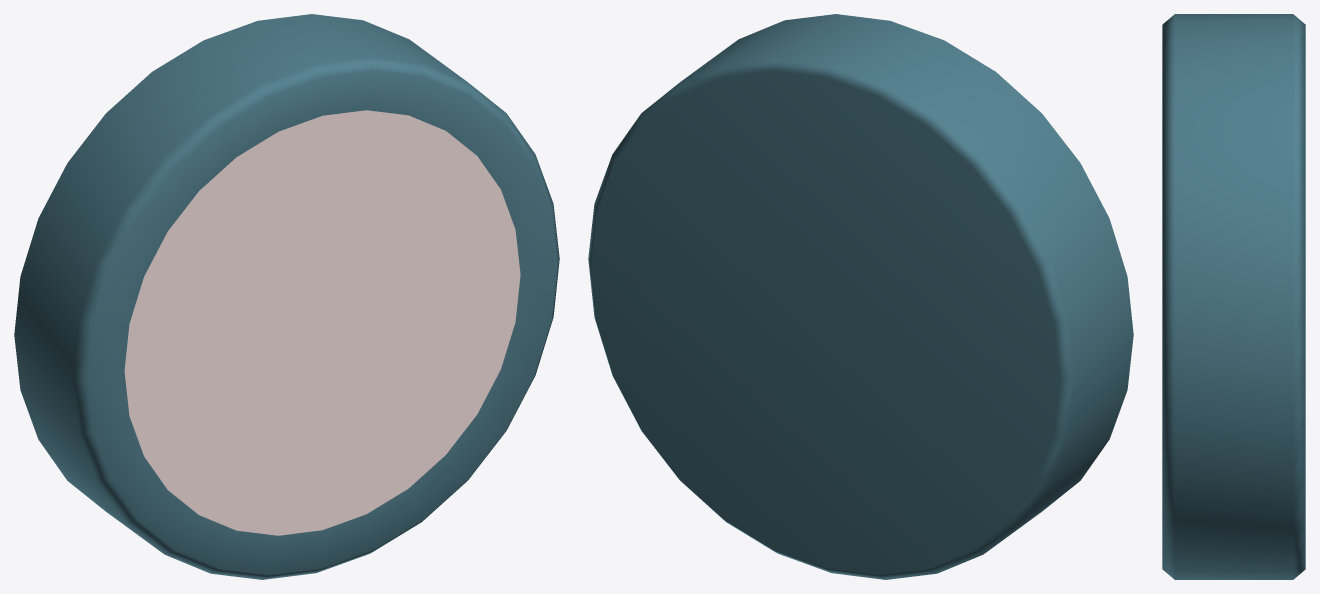
The model's file is Public_13_Bubble_Clean_1.glb.
3 views of the same model, side by side, from view 1: azimuth 30°, elevation 25°; view 2: azimuth 150°, elevation 25°; view 3: azimuth 270°, elevation 25° (orthographic).
Visible parts, largest first — view 1: Public_13_Bubble_Clean_1; view 2: Public_13_Bubble_Clean_1; view 3: Public_13_Bubble_Clean_1.
Part boxes in pixels (x1,y1,x2,y2): Public_13_Bubble_Clean_1: [14, 14, 559, 579]; Public_13_Bubble_Clean_1: [588, 14, 1133, 579]; Public_13_Bubble_Clean_1: [1162, 14, 1305, 579].
Bounding box in the file's own units: 0.5202 × 0.5202 × 0.1314.
1 material, 1 textured.
